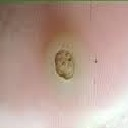Wart: (48, 41, 84, 88)
